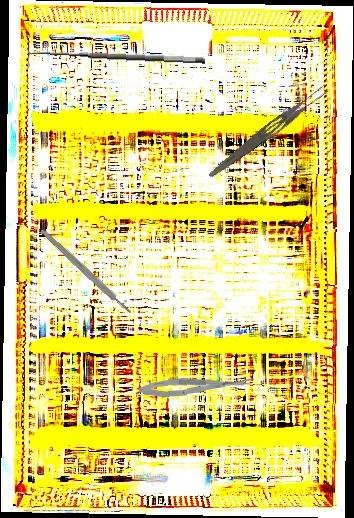Dressing Forceps: (205, 81, 332, 184)
Hook Surgical: (27, 45, 206, 78)
Micro Scissor: (138, 374, 255, 399)
Scalpel Handle: (39, 227, 133, 316)
